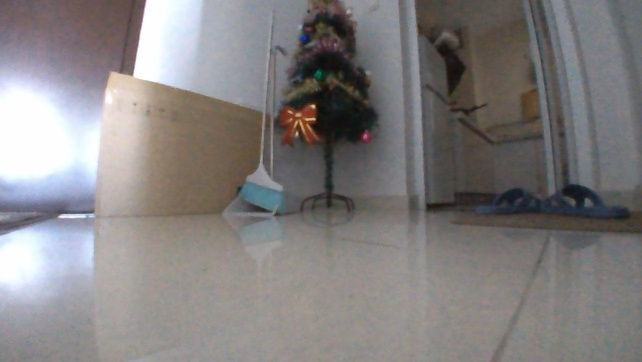blanket: (447, 208, 641, 236)
cupboard: (450, 109, 569, 202)
door_anno: (0, 0, 148, 220)
slipper: (540, 181, 630, 220), (473, 184, 542, 215)
